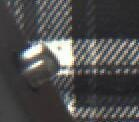screw: (15, 40, 62, 92)
